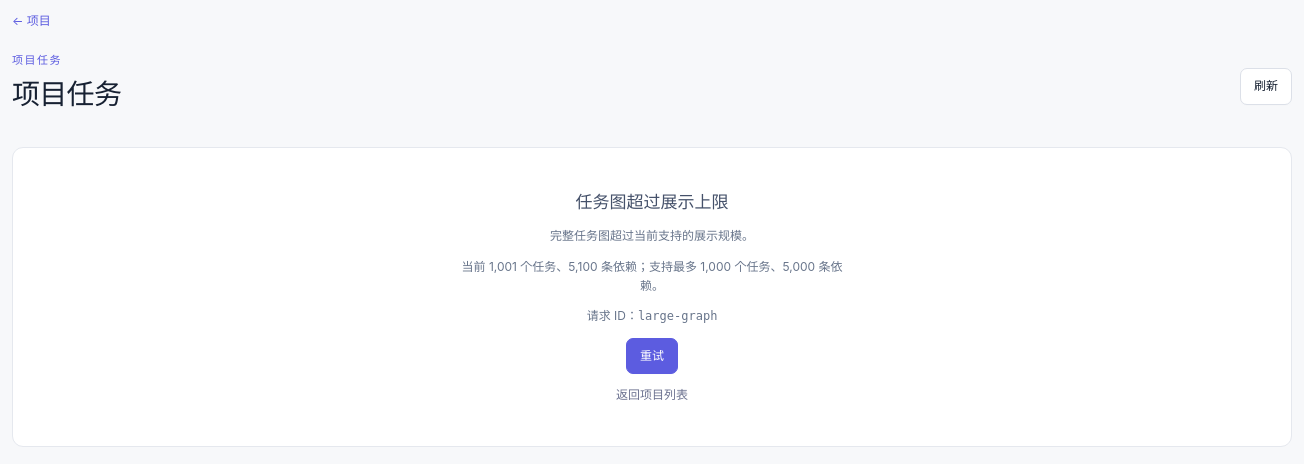
it: project dashboard › explains graph limits using actual counts and rejects malformed graph snapshots
Expected: the heading "任务图超过展示上限" is shown, left=576, top=189, right=728, bottom=215
Expected: the message shows "当前 1,001 个任务、5,100 条依赖；支持最多 1,000 个任务、5,000 条依赖。", left=462, top=259, right=842, bottom=293
Step 1. Click the button "重试" → (652, 356), box left=626, top=338, right=678, bottom=374
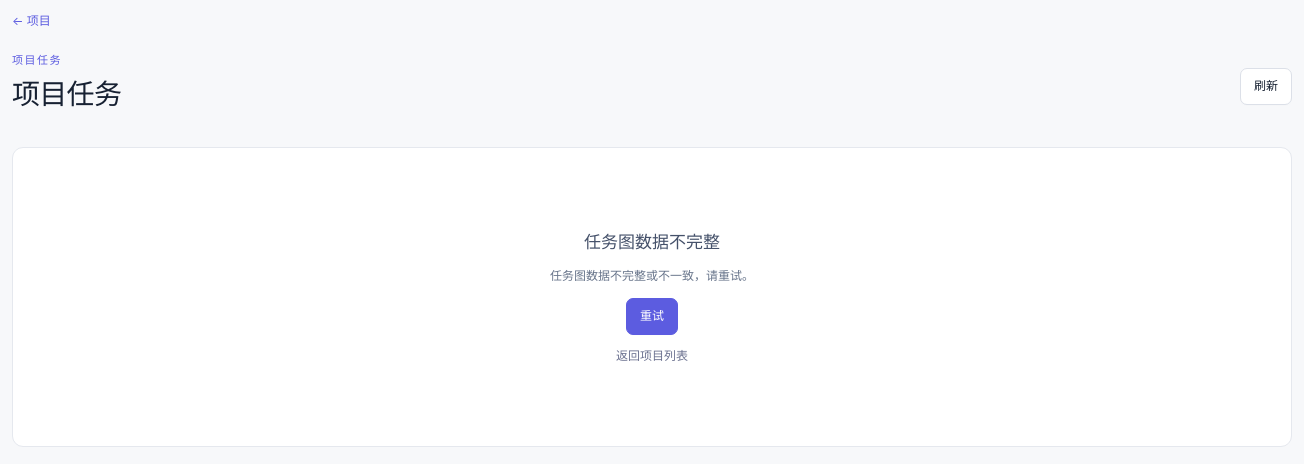
Now the heading "任务图数据不完整" is shown, box left=584, top=229, right=720, bottom=255
